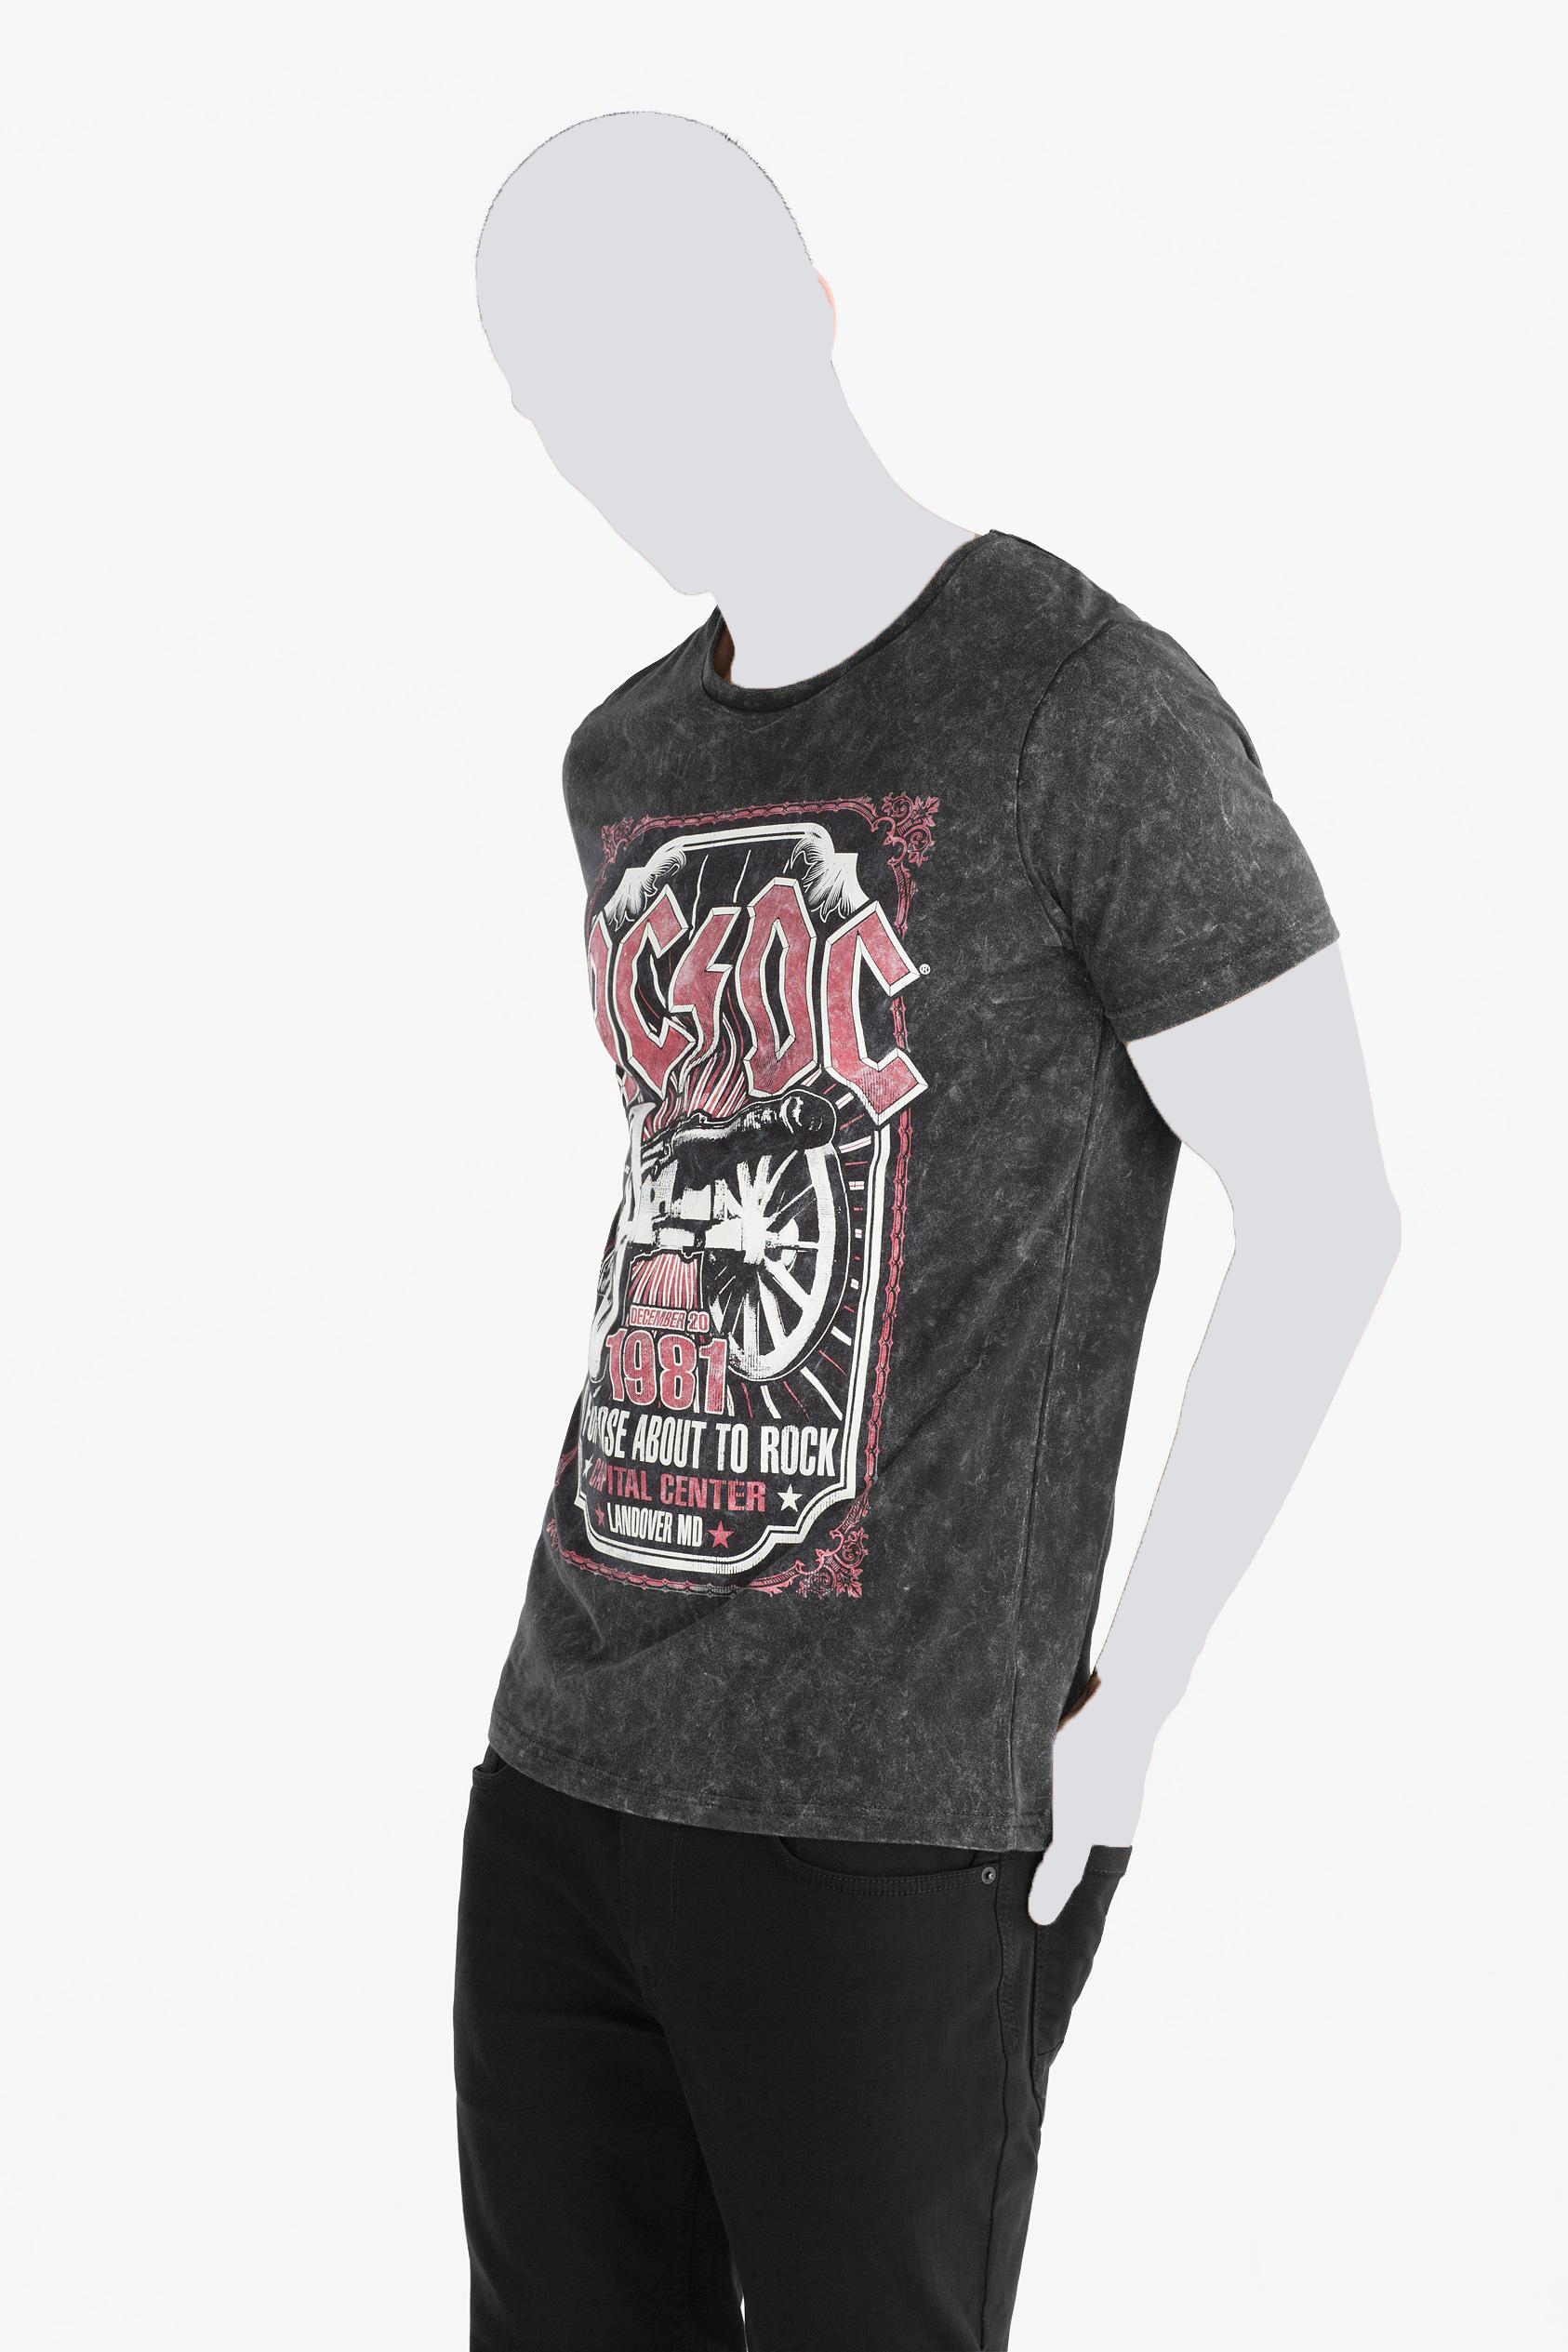teeshirt: (528, 546, 1354, 1923)
